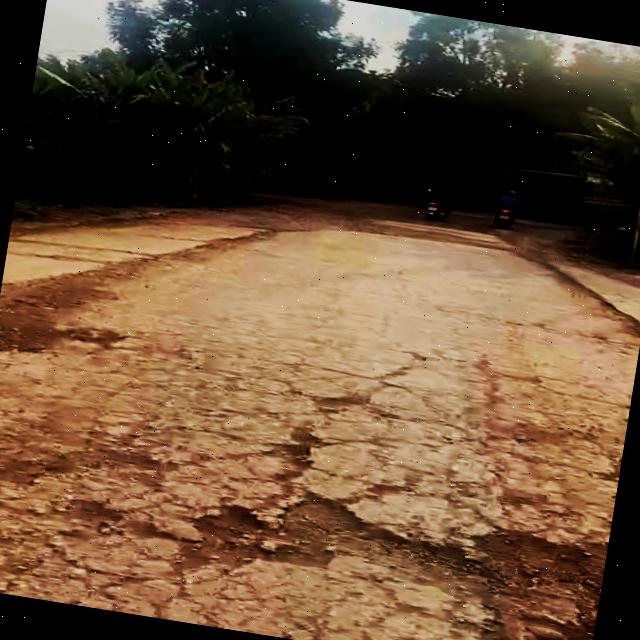pothole: (142, 469, 609, 640)
